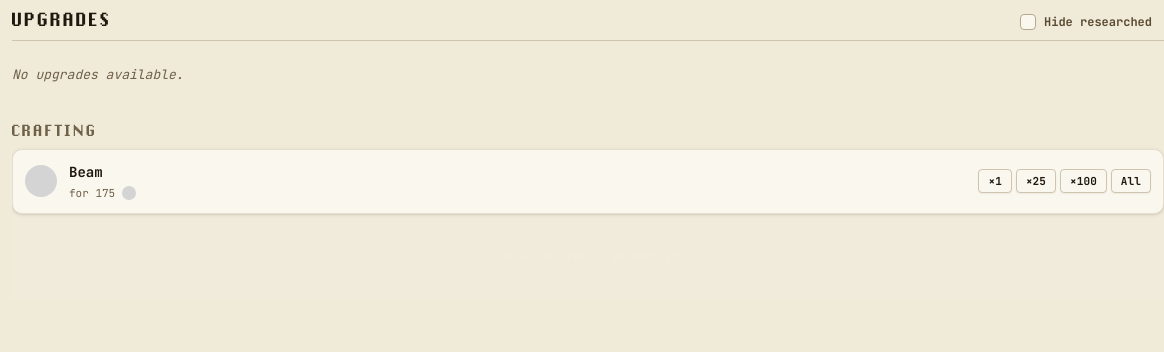
Test: Story 47-02: Craft cost tooltips in inspector › hovering craft All button shows total cost in inspector
This screenshot has width=1164, height=352.
Step 1. Hover over the button with test id "craft-beam-all" → (1131, 181), box [1111,169,1151,193]
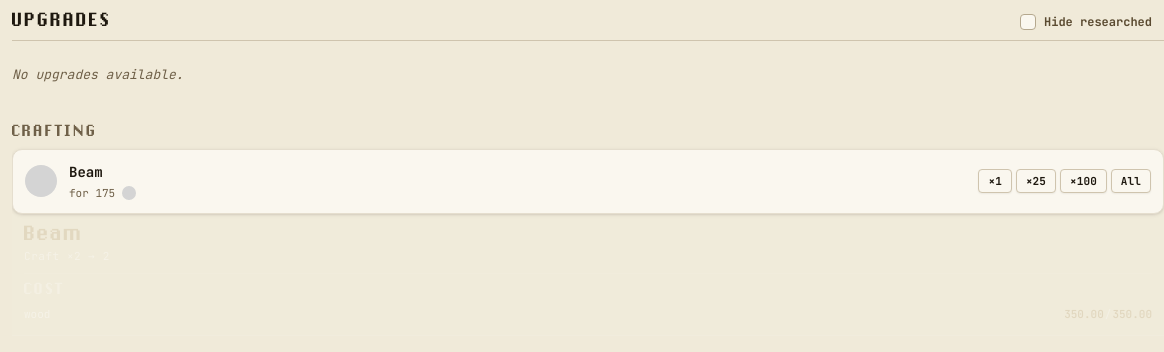
Expected: the element with test id "inspector-panel" shows "×2", [12,214,1163,336]
